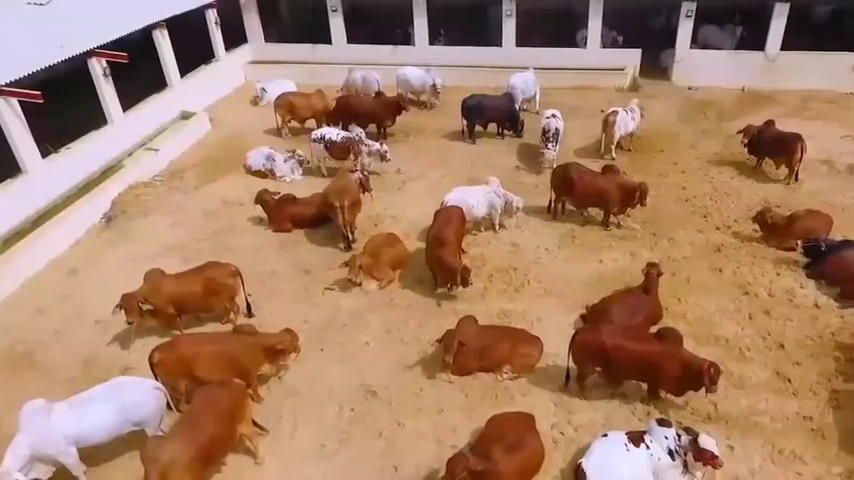bo: (3, 368, 180, 480), (563, 317, 731, 408), (146, 312, 313, 399), (135, 383, 281, 479), (566, 408, 730, 480), (113, 255, 259, 334), (435, 307, 549, 388), (435, 401, 550, 480), (549, 152, 654, 227), (579, 247, 671, 332), (434, 168, 528, 234), (732, 112, 813, 184), (417, 211, 488, 291), (340, 227, 413, 297), (312, 118, 391, 179), (748, 193, 836, 246), (457, 87, 528, 151), (594, 87, 657, 155), (792, 229, 854, 298), (319, 161, 369, 245), (249, 183, 323, 238), (230, 137, 310, 187), (687, 7, 758, 61), (335, 89, 404, 139), (524, 101, 574, 170), (567, 16, 629, 64), (272, 87, 334, 131), (394, 64, 446, 111), (502, 58, 543, 113), (246, 66, 297, 108), (336, 64, 382, 100)
